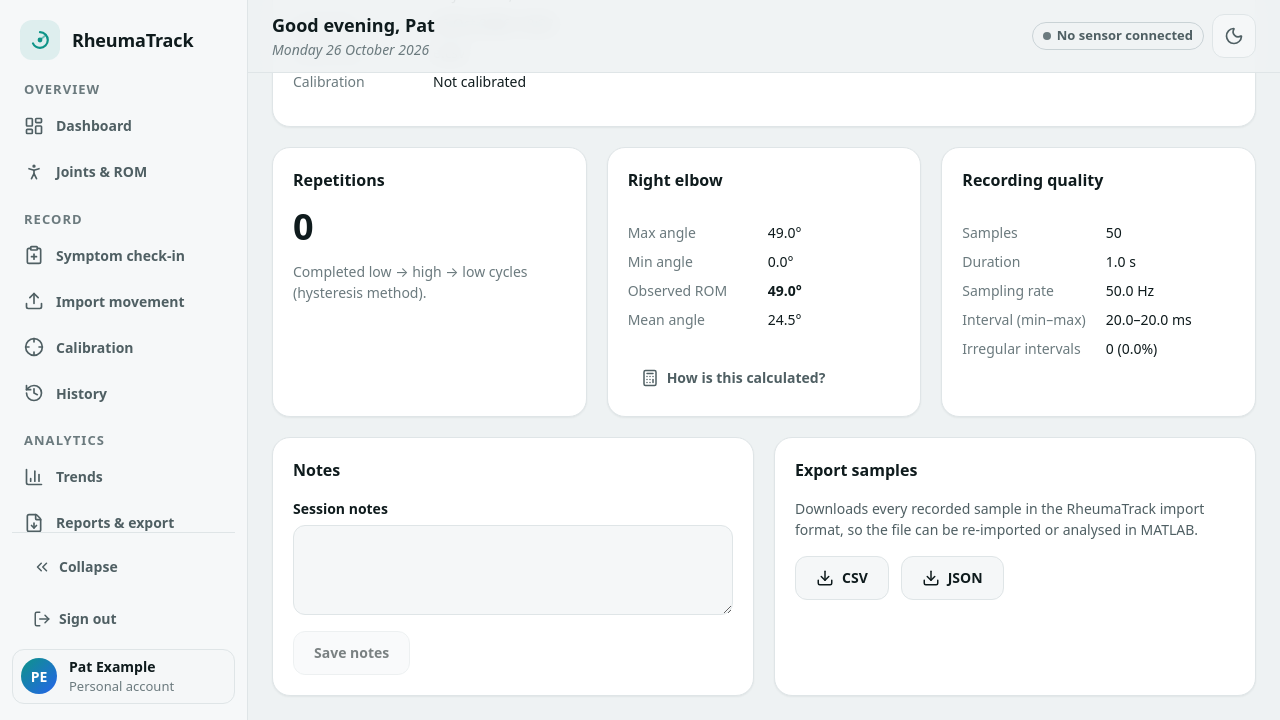
Test case: session detail › shows metrics, playback controls and exports
The width and height of the screenshot is (1280, 720).
(page scrolled)
Expected: the 2nd text "49.0°" is shown, [768, 280, 802, 300]
Expected: the text "24.5°" is shown, [768, 310, 802, 328]
Click the button "How is this calculated?": coordinates (733, 378) [628, 360, 838, 396]
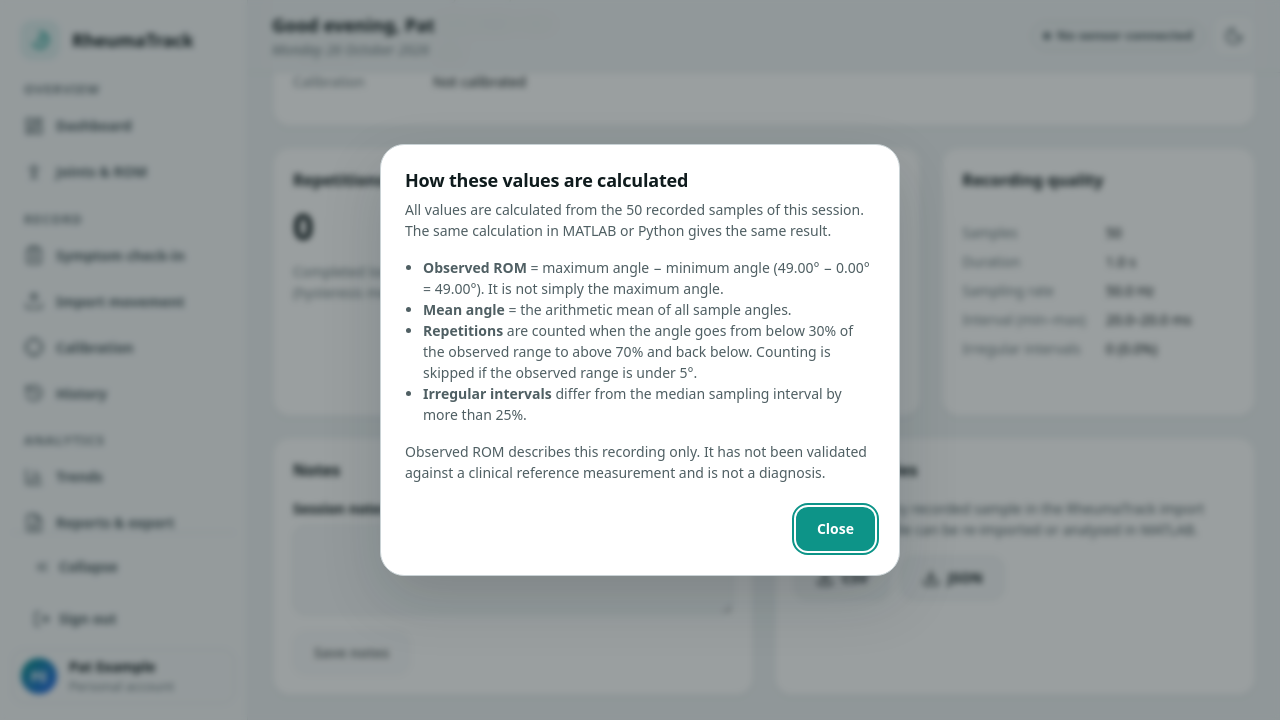
Now the dialog "How these values are calculated" is shown, box [380, 144, 900, 576]
